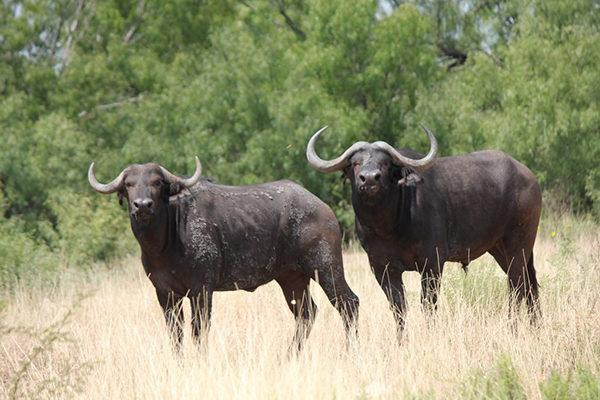Buffalo: (54, 104, 569, 345)
